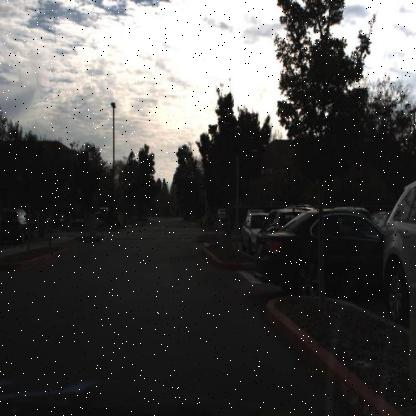car: (254, 205, 383, 299), (376, 179, 415, 328), (0, 204, 32, 247), (238, 205, 262, 257), (214, 206, 230, 224)
